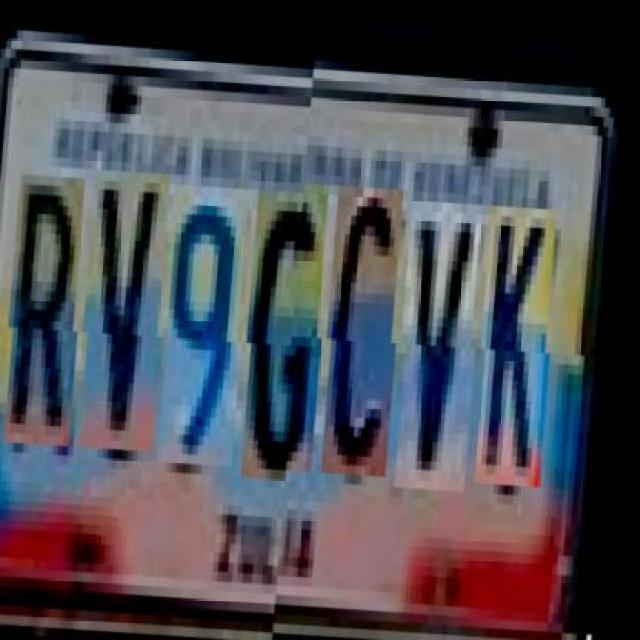9: (165, 182, 257, 463)
c: (328, 190, 410, 481)
g: (249, 186, 336, 477)
k: (482, 208, 564, 488)
r: (11, 173, 94, 444)
v: (86, 168, 179, 450), (402, 203, 489, 494)
